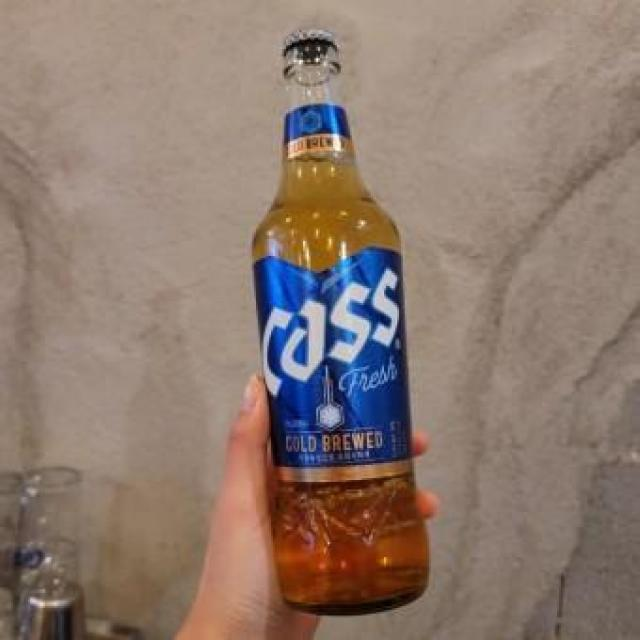beer-bottle: (232, 20, 444, 630)
